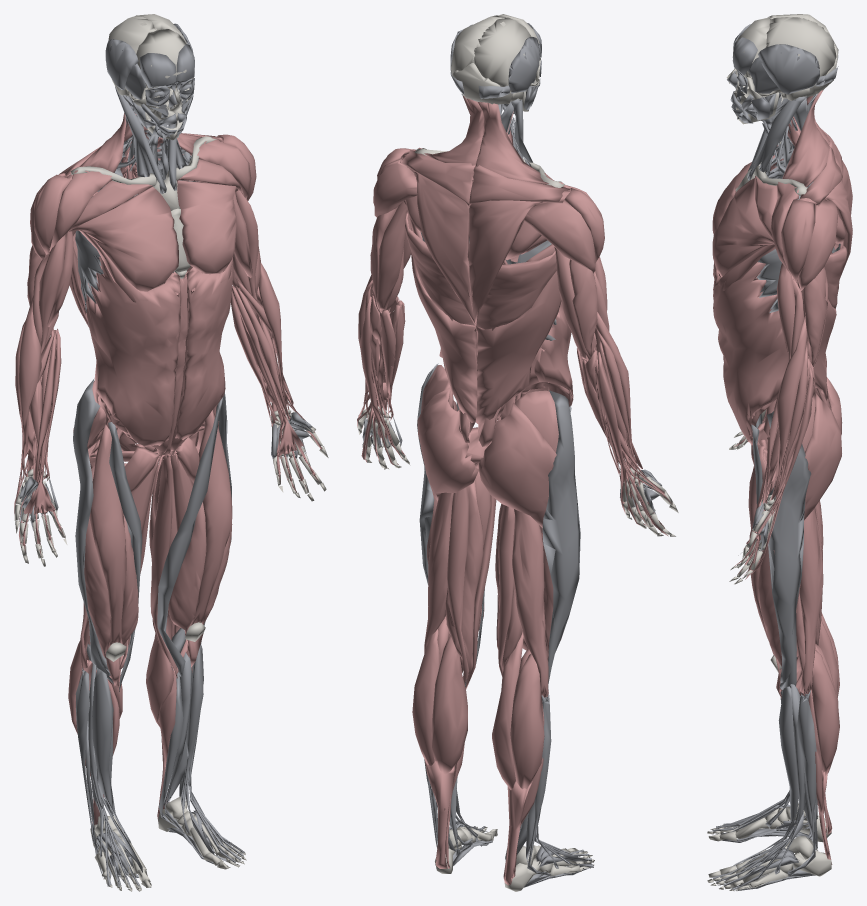
The model's file is masculino.meshopt.glb.
The picture shows the model from 3 angles, left to right: view 1: azimuth 30°, elevation 25°; view 2: azimuth 150°, elevation 25°; view 3: azimuth 270°, elevation 25°; orthographic projection. The views are drawn at different scales.
Parts seen in each view (by area): view 1: base_musculos_der, core_der, base_musculos_izq, pecho_der, cuadriceps_der, cuadriceps_izq, core_izq, antebrazos_der, antebrazos_izq, pecho_izq, base_huesos_der, aductores_izq (+11 smaller); view 2: espalda_der, espalda_izq, base_musculos_der, pantorrillas_izq, femorales_izq, pantorrillas_der, femorales_der, gluteos_der, base_huesos_der, antebrazos_der, antebrazos_izq, hombros_der (+13 smaller); view 3: base_musculos_izq, core_izq, base_huesos_izq, espalda_izq, antebrazos_izq, hombros_izq, pecho_izq, femorales_izq, pantorrillas_izq, gluteos_izq, base_musculos_der, cuadriceps_izq (+9 smaller).
Boxes of the visible parts, x1,y1,x2,y2 form: base_musculos_der: (19,39,177,888); core_der: (86,256,180,456); base_musculos_izq: (126,23,312,865); pecho_der: (68,180,178,302); cuadriceps_der: (84,424,138,685); cuadriceps_izq: (168,410,232,667); core_izq: (170,260,233,453); antebrazos_der: (14,296,64,556); antebrazos_izq: (231,263,322,493); pecho_izq: (177,159,242,282); base_huesos_der: (14,15,179,891); aductores_izq: (150,426,204,678); espalda_der: (468,102,569,424); espalda_izq: (402,96,483,422); base_musculos_der: (478,23,661,887); pantorrillas_izq: (412,615,467,868); femorales_izq: (424,480,483,684); pantorrillas_der: (492,632,544,885); femorales_der: (495,504,548,697); gluteos_der: (478,402,556,527); base_huesos_der: (473,17,678,891); antebrazos_der: (577,312,672,536); antebrazos_izq: (357,275,405,464); hombros_der: (505,173,604,273); base_musculos_izq: (712,37,840,890); core_izq: (713,262,788,445); base_huesos_izq: (707,17,836,890); espalda_izq: (782,90,852,401); antebrazos_izq: (734,316,814,579); hombros_izq: (770,182,845,290); pecho_izq: (712,176,777,290); femorales_izq: (796,506,823,695); pantorrillas_izq: (800,644,839,864); gluteos_izq: (804,393,841,520); base_musculos_der: (712,24,838,842); cuadriceps_izq: (749,437,800,698).
Size of the model in its own units: 0.7069 by 1.8 by 0.2819.
